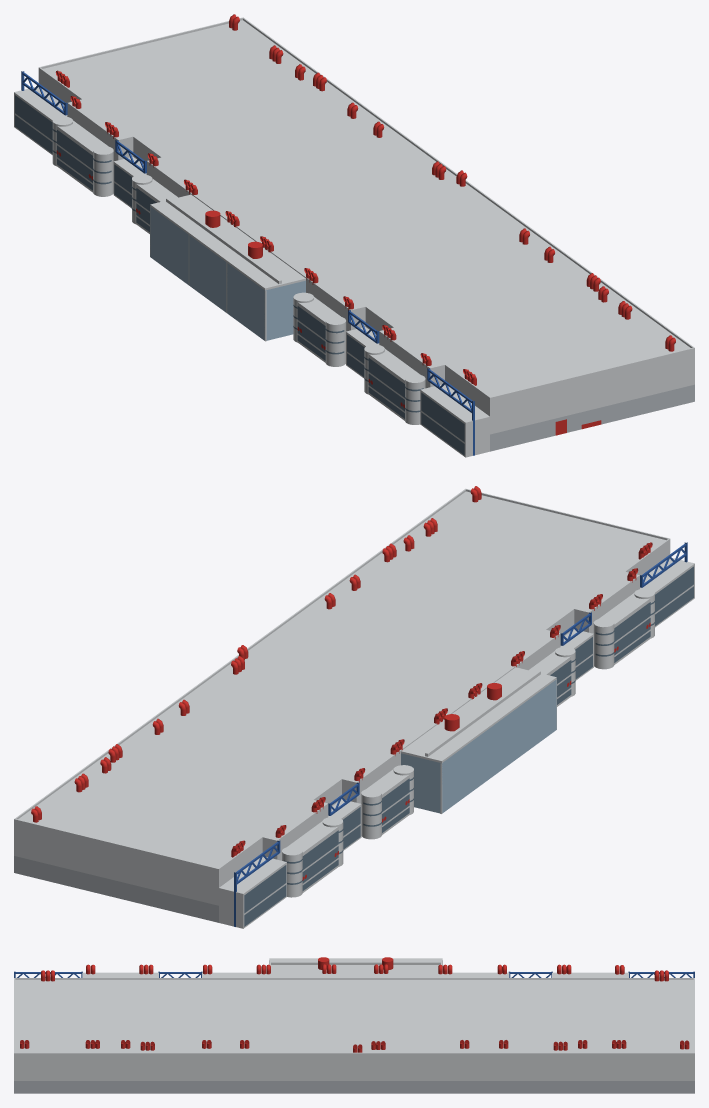
File: hou-george-r-brown-convention-center.glb
3 views of the same model, one above another, from view 1: azimuth 30°, elevation 25°; view 2: azimuth 150°, elevation 25°; view 3: azimuth 270°, elevation 25° (orthographic). The views are drawn at different scales.
Parts seen in each view (by area): view 1: George R. Brown Convention Center; view 2: George R. Brown Convention Center; view 3: George R. Brown Convention Center.
Part boxes in pixels (left/top/right/bottom): George R. Brown Convention Center: left=14, top=14, right=694, bottom=457; George R. Brown Convention Center: left=14, top=486, right=694, bottom=928; George R. Brown Convention Center: left=14, top=957, right=694, bottom=1093.
Bounding box in the file's own units: 159 × 37.3 × 478.
